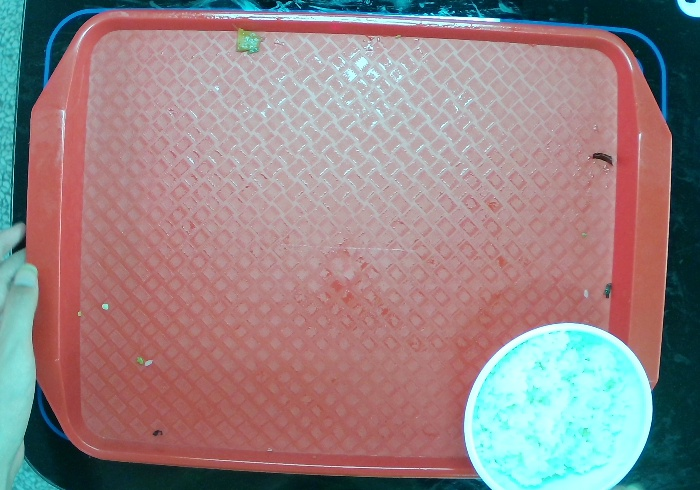YKMZ-Fan_Wan: (460, 320, 655, 490)
